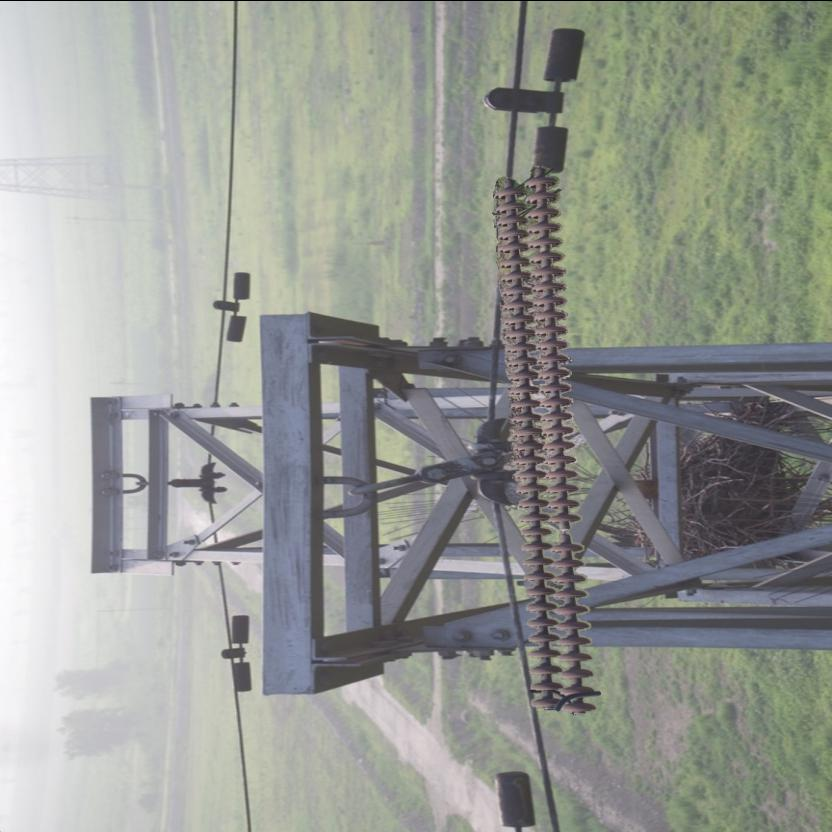defect: (542, 510, 580, 558)
